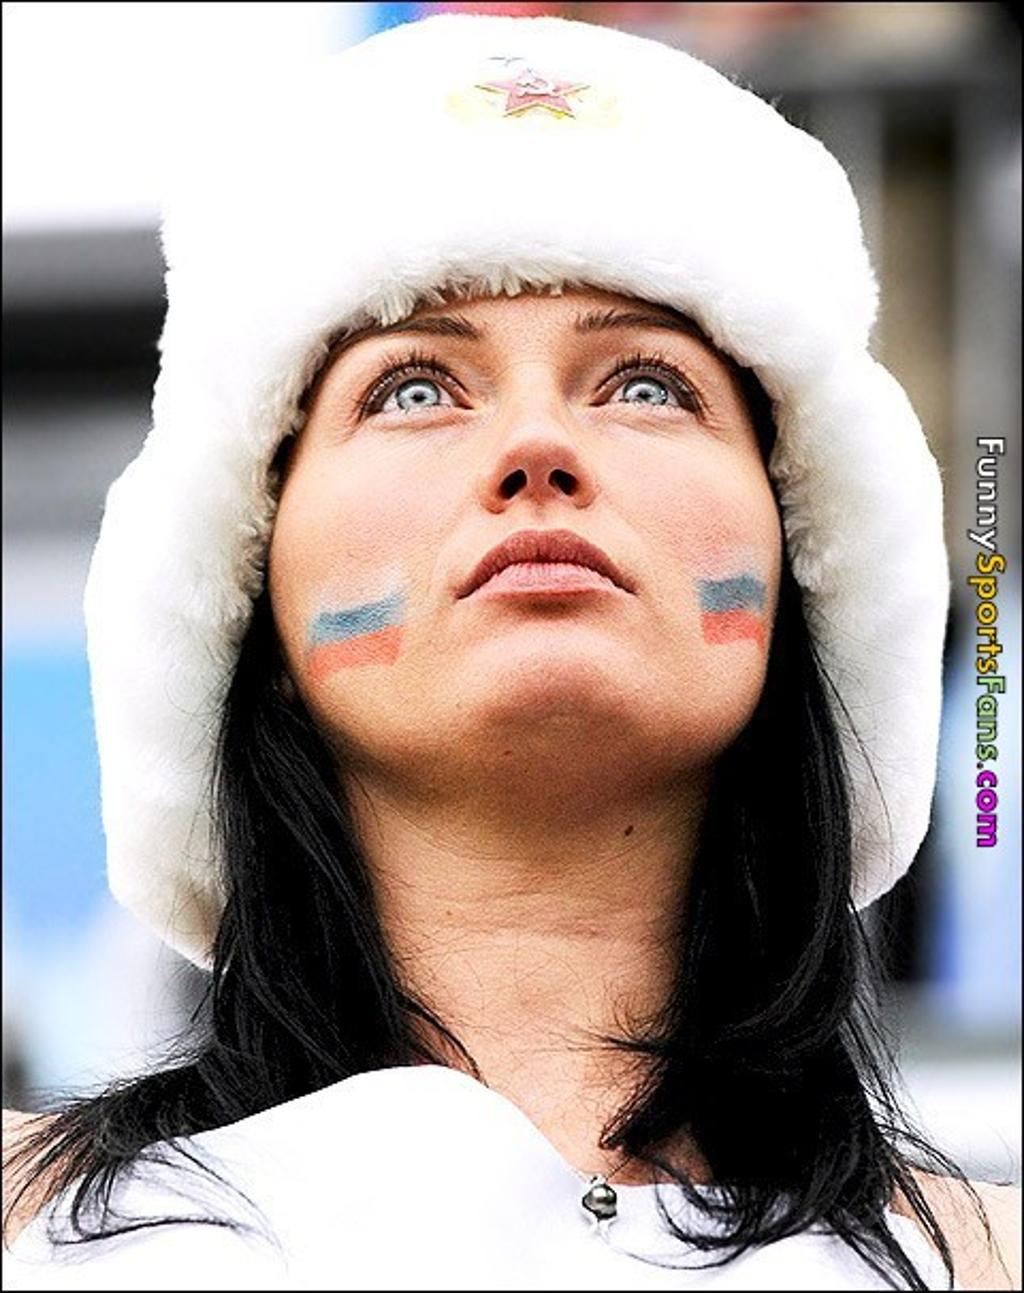face: (271, 251, 788, 735)
